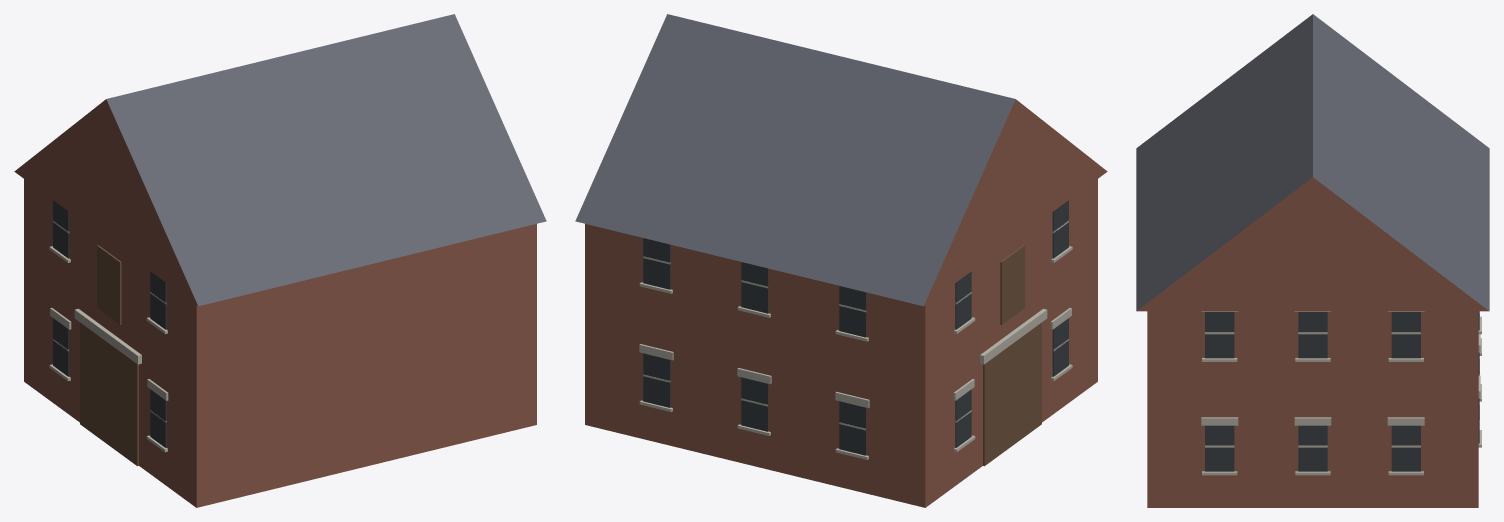
The model's file is house_1615_indiana_coach_house__draft_1904.glb.
3 views of the same model, side by side, from view 1: azimuth 30°, elevation 25°; view 2: azimuth 150°, elevation 25°; view 3: azimuth 270°, elevation 25° (orthographic). The views are drawn at different scales.
Parts seen in each view (by area): view 1: house_1615_indiana_coach_house__draft_1904; view 2: house_1615_indiana_coach_house__draft_1904; view 3: house_1615_indiana_coach_house__draft_1904.
Part boxes in pixels (left/top/right/bottom): house_1615_indiana_coach_house__draft_1904: left=14, top=14, right=546, bottom=507; house_1615_indiana_coach_house__draft_1904: left=575, top=14, right=1107, bottom=507; house_1615_indiana_coach_house__draft_1904: left=1136, top=14, right=1489, bottom=507.
Size of the model in its own units: 10.49 by 9.98 by 9.6.
